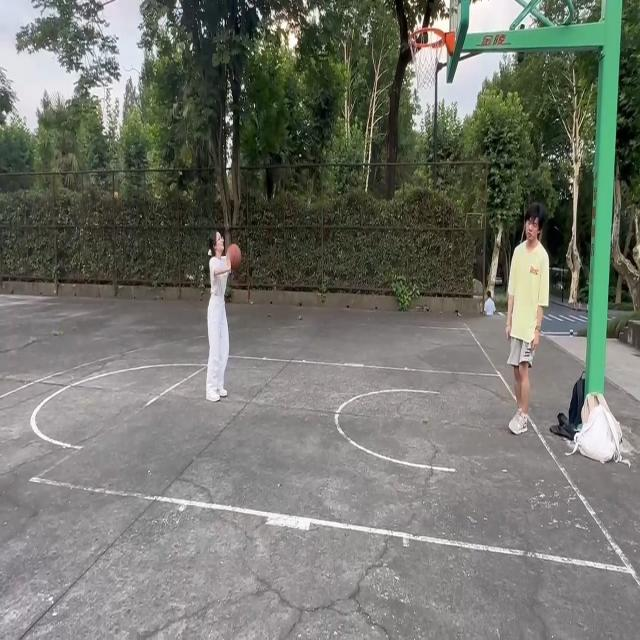basketball: (408, 26, 445, 89)
rim: (224, 243, 243, 272)
